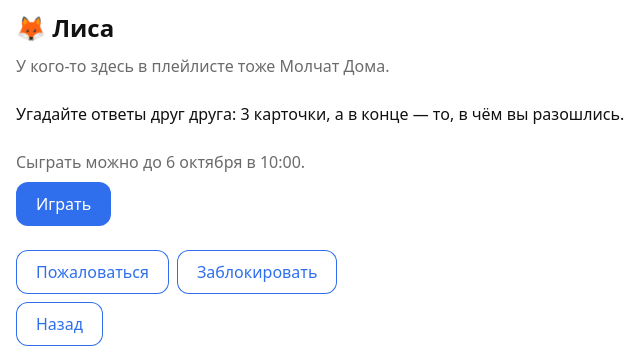
Test: <Match> playing the game › looks at the match again when the game can no longer be played
Click the button "Играть": (64, 204) 16,182 -> 111,226
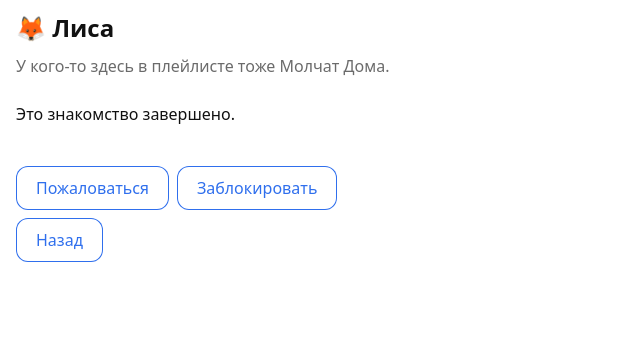
Expected: the text "Это знакомство завершено." is shown, 16,103 -> 235,125
